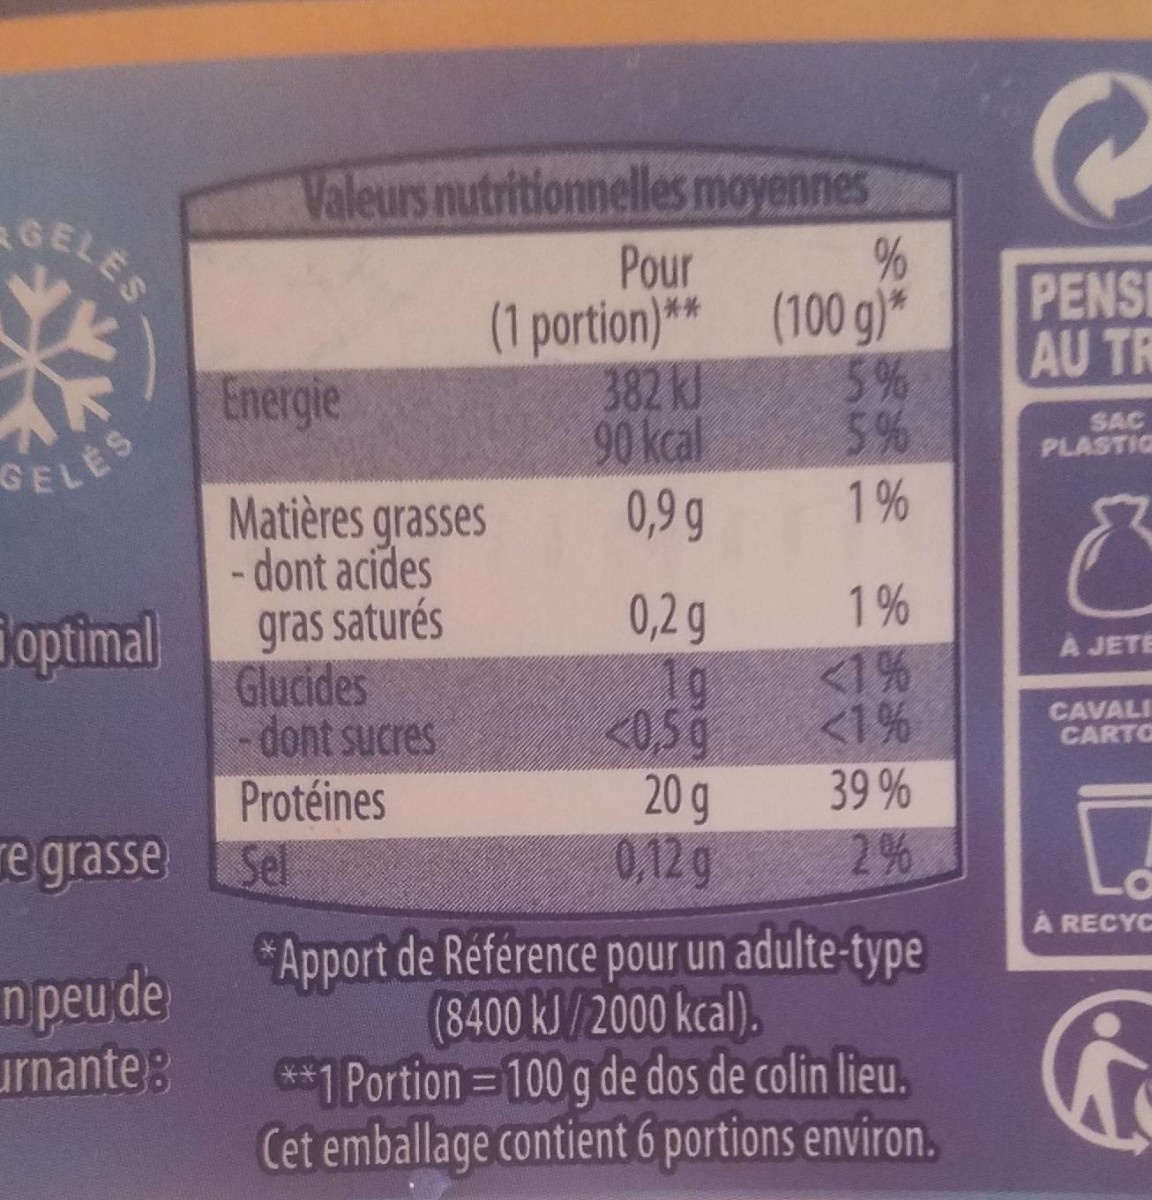column: (221, 378, 485, 922), (494, 243, 710, 896), (768, 219, 916, 919)
table: (179, 146, 973, 921)
